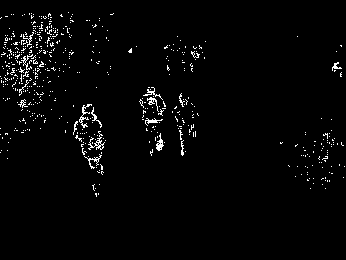person: (74, 103, 104, 194), (138, 85, 166, 156), (172, 93, 199, 157)
